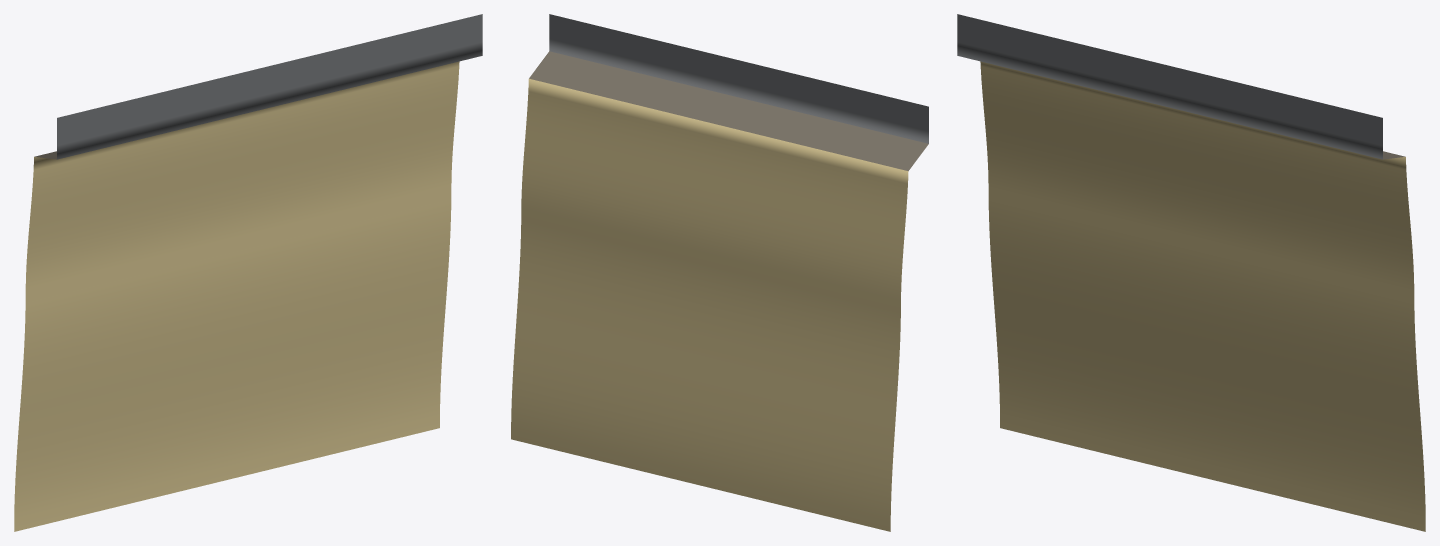
Rendered from island_terrain_13_03.obj.
The picture shows the model from 3 angles, left to right: view 1: azimuth 30°, elevation 25°; view 2: azimuth 150°, elevation 25°; view 3: azimuth 330°, elevation 25°; orthographic projection. The views are drawn at different scales.
Visible parts, largest first — view 1: island_terrain_13_03; view 2: island_terrain_13_03; view 3: island_terrain_13_03.
Boxes of the visible parts, x1,y1,x2,y2 form: island_terrain_13_03: (14, 14, 482, 531); island_terrain_13_03: (511, 14, 928, 531); island_terrain_13_03: (957, 14, 1425, 531).
Bounding box in the file's own units: 256 × 256 × 44.7.
